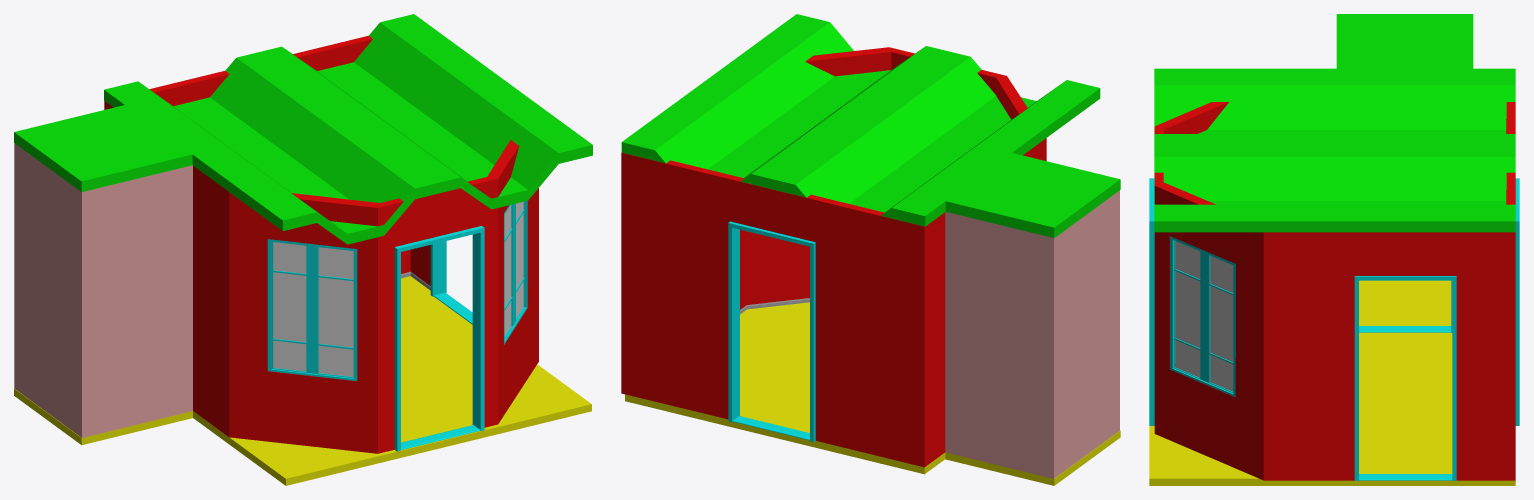
The model's file is FloorPlan523_physics.fbx.
3 views of the same model, side by side, from view 1: azimuth 30°, elevation 25°; view 2: azimuth 150°, elevation 25°; view 3: azimuth 270°, elevation 25° (orthographic). The views are drawn at different scales.
Visible parts, largest first — view 1: FP523:Ceiling_3, FP523:Walls_1, FP523:Walls_2, FP523:Floor_1, FP523:Ceiling_2, FP523:WindowPane_1, FP523:DoorFrame_1, FP523:WindowFrame_1, FP523:WindowPane_2, FP523:WindowFrame_2, FP523:Floor_2, FP523:DoorFrame_2 (+1 smaller); view 2: FP523:Walls_1, FP523:Ceiling_3, FP523:Walls_2, FP523:Floor_1, FP523:Ceiling_2, FP523:DoorFrame_3, FP523:Floor_2, FP523:Floorboard_3; view 3: FP523:Walls_1, FP523:Ceiling_3, FP523:Floor_1, FP523:Ceiling_2, FP523:WindowPane_2, FP523:Floor_2, FP523:WindowFrame_2, FP523:DoorFrame_2, FP523:DoorFrame_1, FP523:DoorFrame_3, FP523:Floorboard_2, FP524:Floorboard_4.
Part boxes in pixels (x1,y1,x2,y2): FP523:Ceiling_3: (104,14,592,244); FP523:Walls_1: (104,35,538,453); FP523:Walls_2: (14,143,192,437); FP523:Floor_1: (193,276,591,485); FP523:Ceiling_2: (14,105,192,191); FP523:WindowPane_1: (273,242,353,376); FP523:DoorFrame_1: (394,226,484,451); FP523:WindowFrame_1: (267,239,357,381); FP523:WindowPane_2: (504,201,523,336); FP523:WindowFrame_2: (504,201,527,344); FP523:Floor_2: (14,388,192,444); FP523:DoorFrame_2: (430,241,446,296); FP523:Walls_1: (621,47,1046,467); FP523:Ceiling_3: (621,14,1100,226); FP523:Walls_2: (945,190,1119,478); FP523:Floor_1: (625,302,945,474); FP523:Ceiling_2: (945,152,1120,237); FP523:DoorFrame_3: (728,221,815,442); FP523:Floor_2: (945,430,1120,485); FP523:Floorboard_3: (732,416,809,440); FP523:Walls_1: (1154,102,1515,480); FP523:Ceiling_3: (1154,68,1515,232); FP523:Floor_1: (1149,332,1515,485); FP523:Ceiling_2: (1336,14,1473,68); FP523:WindowPane_2: (1175,241,1233,391); FP523:Floor_2: (1359,280,1451,325); FP523:WindowFrame_2: (1170,236,1235,396); FP523:DoorFrame_2: (1354,276,1456,480); FP523:DoorFrame_1: (1149,178,1154,425); FP523:DoorFrame_3: (1515,178,1519,425); FP523:Floorboard_2: (1359,474,1452,480); FP524:Floorboard_4: (1359,326,1451,332).
Bounding box in the file's own units: 449 × 268 × 338.
